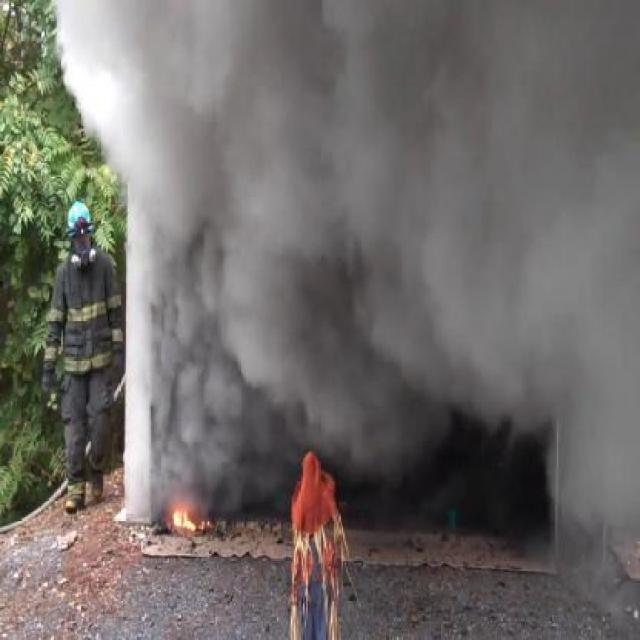smoke: (26, 2, 640, 582)
